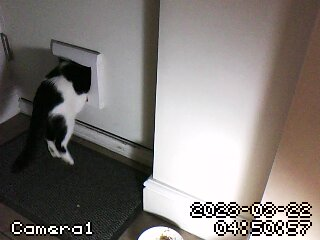bad: (22, 61, 100, 168)
